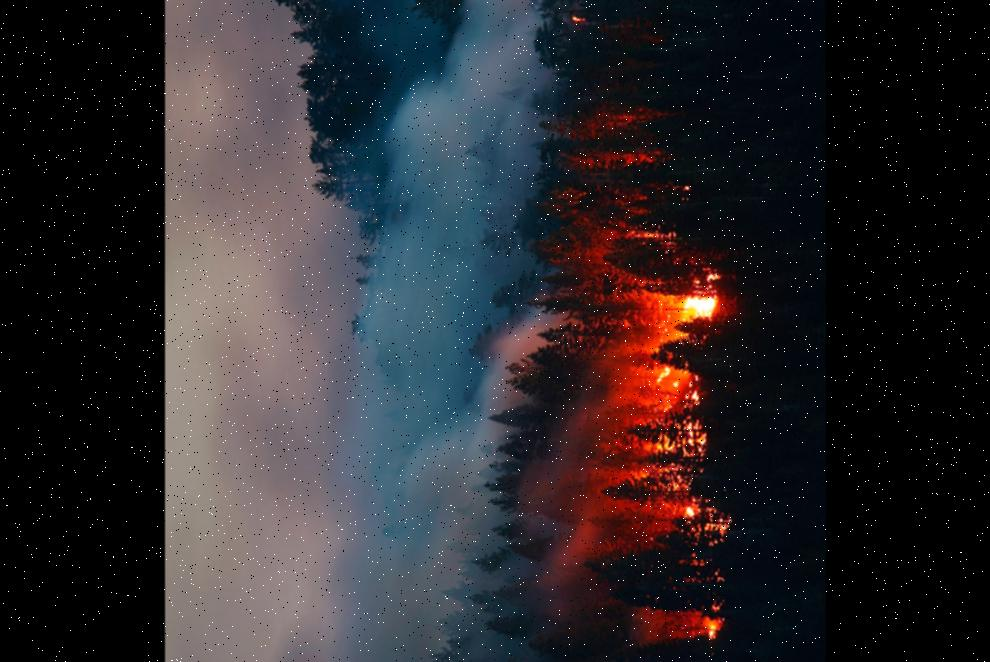fire: (579, 262, 756, 646)
